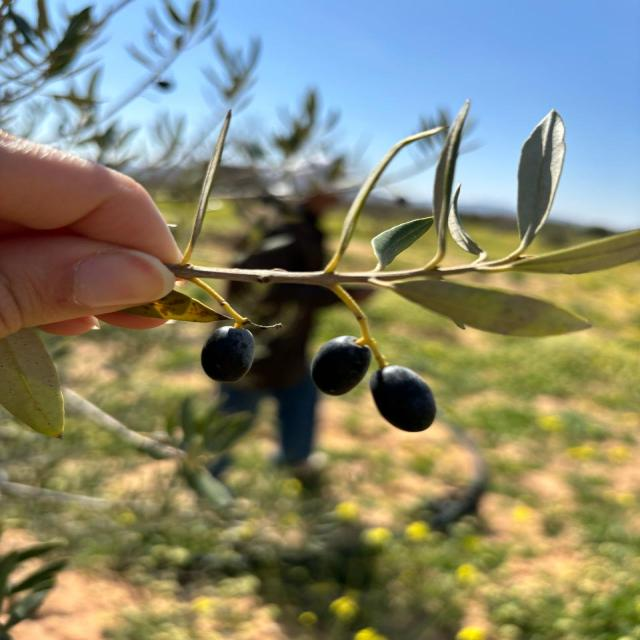Healthy: (473, 110, 565, 269), (311, 336, 437, 432), (390, 278, 591, 337), (0, 328, 64, 438), (201, 326, 254, 382)
Peacock Eye: (123, 292, 229, 322)
